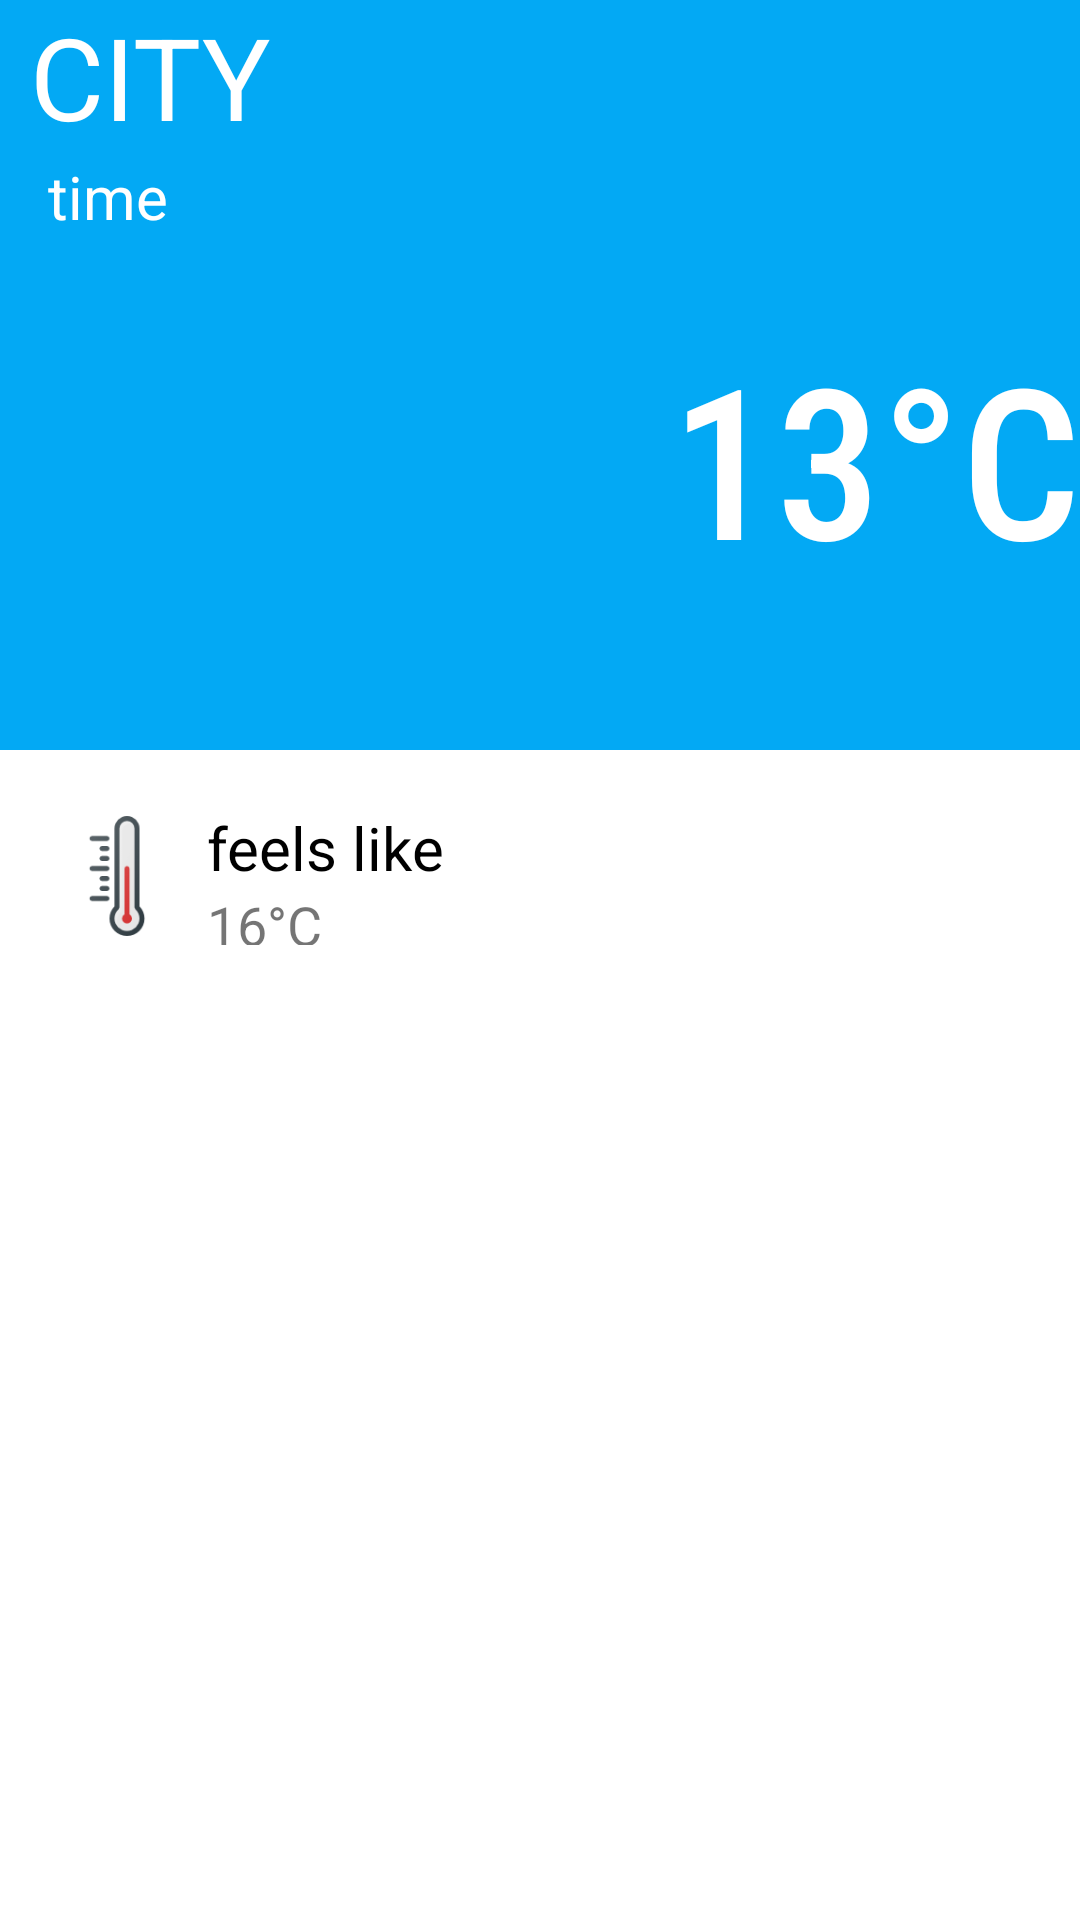

Named icons in this screenshot (1080×1920) and their centers, (x,y):
thermometer: (117,876)
